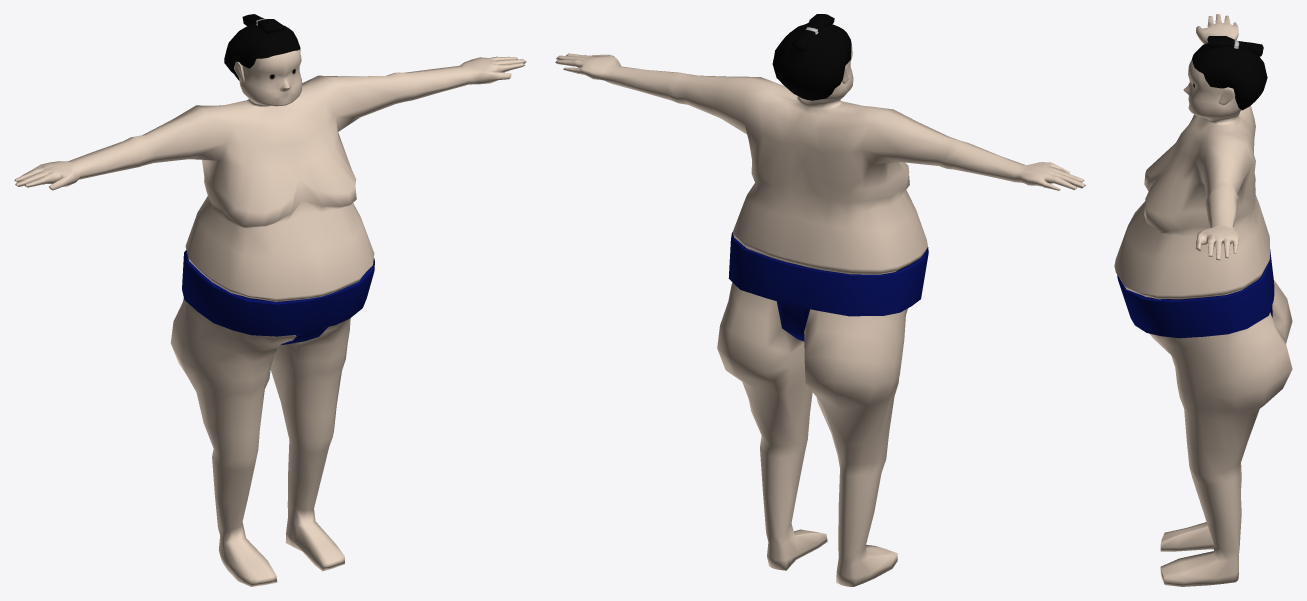
3 views of the same model, side by side, from view 1: azimuth 30°, elevation 25°; view 2: azimuth 150°, elevation 25°; view 3: azimuth 270°, elevation 25° (orthographic). The views are drawn at different scales.
Visible parts, largest first — view 1: body3, fuku3; view 2: body3, fuku3; view 3: body3, fuku3.
Boxes of the visible parts, box(x1,y1,x2,y2) form: body3: box(14, 14, 526, 586); fuku3: box(182, 250, 374, 344); body3: box(555, 14, 1085, 586); fuku3: box(728, 232, 928, 341); body3: box(1114, 14, 1292, 586); fuku3: box(1117, 249, 1274, 338).
Bounding box in the file's own units: 5.37 × 5.36 × 1.65.
3 materials, 3 textured.
